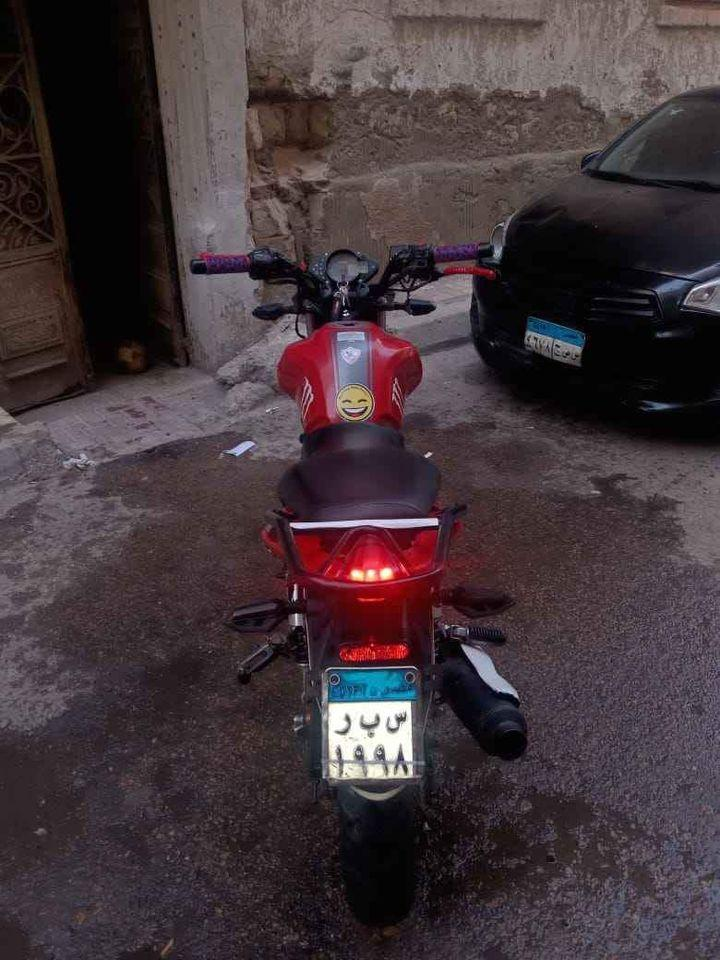License Plate: (320, 663, 426, 786), (522, 311, 591, 367)
